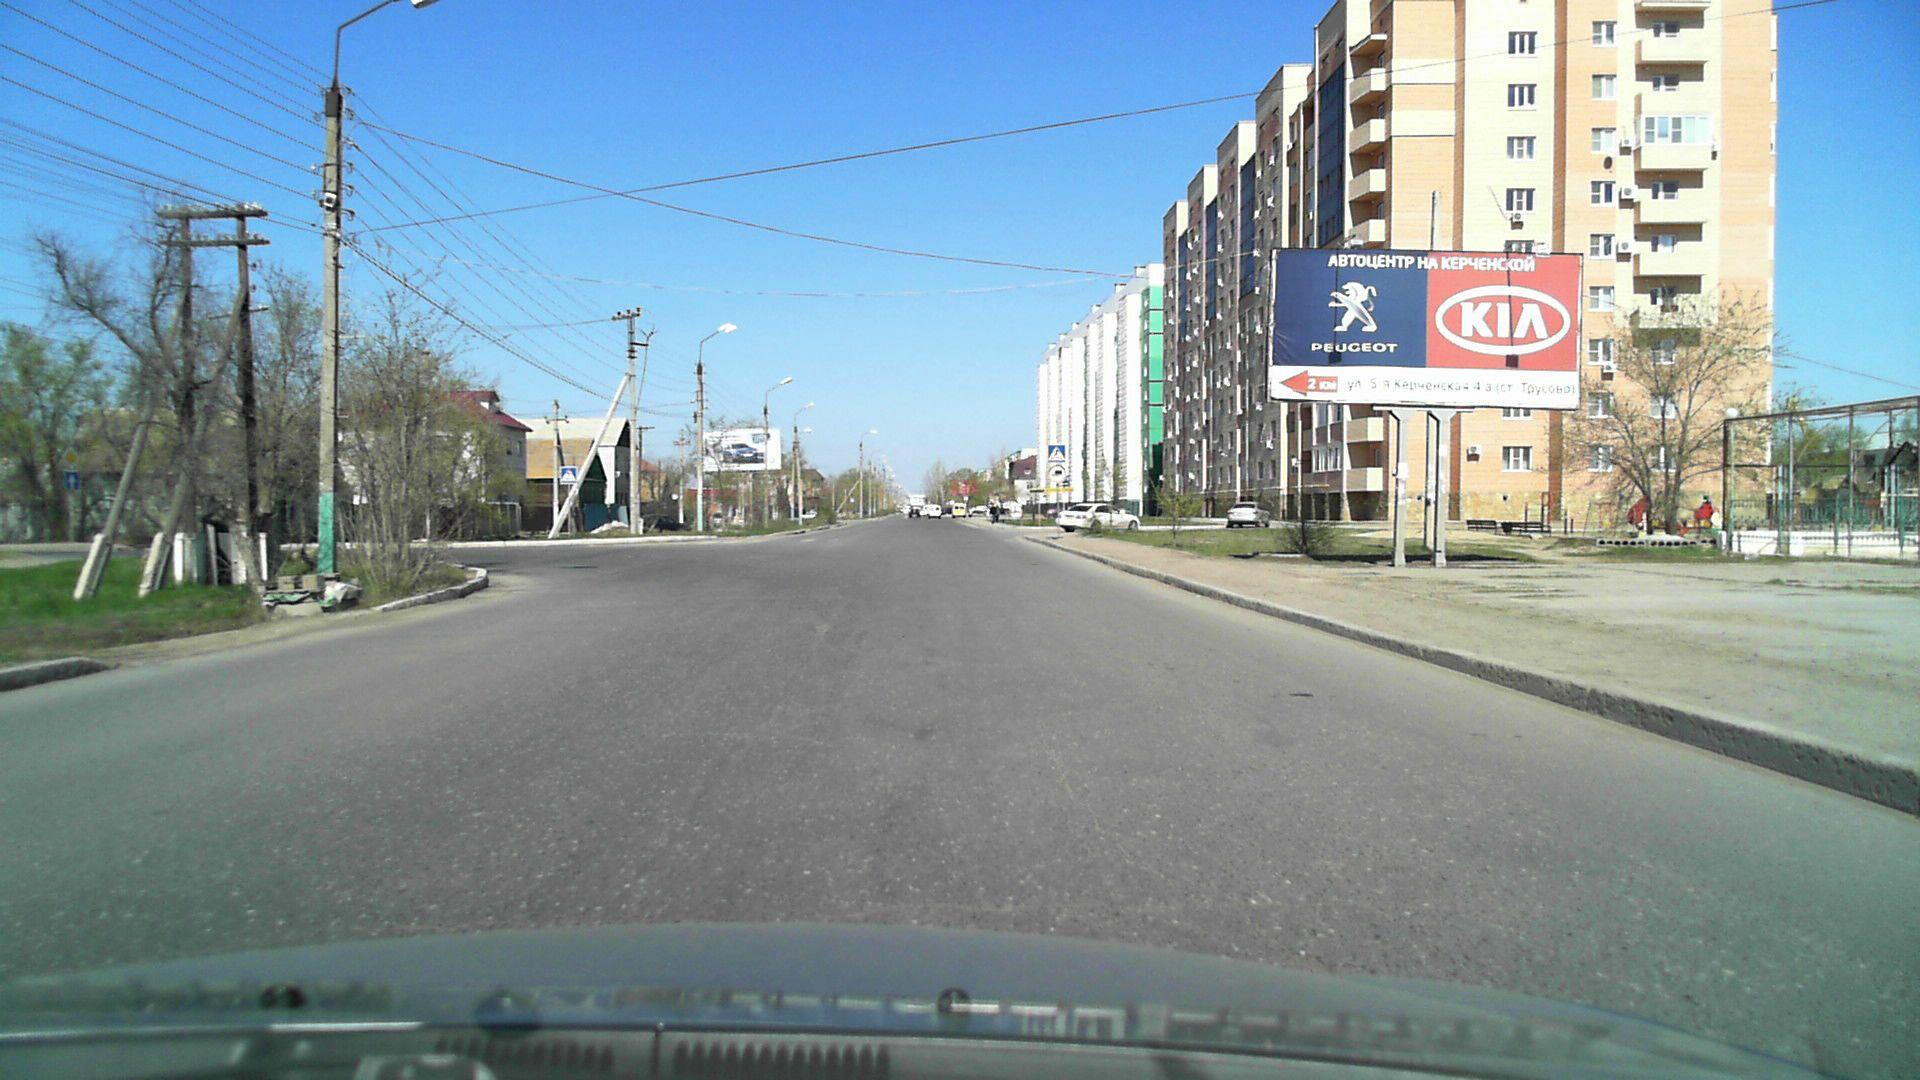3_4: (1048, 465, 1068, 483)
5_19_1: (1048, 446, 1068, 462)
5_19_2: (560, 467, 576, 483)
